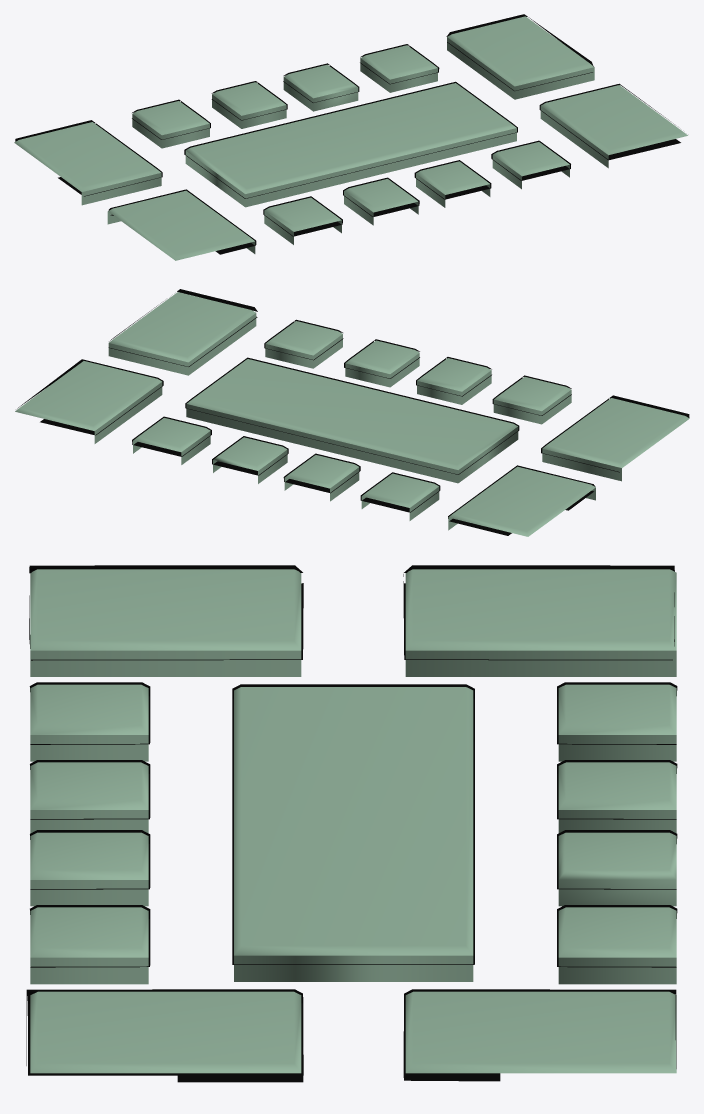
The model's file is Pattern_Cube.glb.
3 views of the same model, one above another, from view 1: azimuth 30°, elevation 25°; view 2: azimuth 150°, elevation 25°; view 3: azimuth 270°, elevation 25° (orthographic). The views are drawn at different scales.
Parts seen in each view (by area): view 1: Pattern_Cube; view 2: Pattern_Cube; view 3: Pattern_Cube.
Part boxes in pixels (bbox=[...]): Pattern_Cube: bbox=[14, 14, 687, 260]; Pattern_Cube: bbox=[15, 289, 689, 536]; Pattern_Cube: bbox=[26, 565, 677, 1082].
Size of the model in its own units: 9.12 by 0.2989 by 5.
2 materials, 1 textured.
